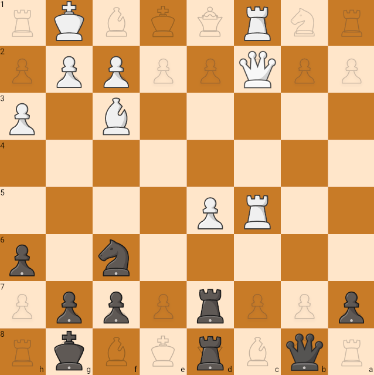bk: (49, 331, 89, 372)
bn: (95, 237, 136, 279)
bp: (334, 284, 372, 327), (4, 239, 39, 279), (99, 286, 134, 326), (53, 287, 87, 326)
bq: (282, 330, 327, 373)
br: (190, 330, 232, 373), (192, 283, 229, 326)
wb: (97, 95, 137, 138)
wk: (50, 2, 90, 46)
wp: (1, 92, 42, 137), (192, 189, 229, 232), (96, 54, 136, 91), (50, 53, 86, 89)
wq: (239, 47, 276, 91)
wr: (235, 3, 279, 43), (239, 190, 276, 232)
